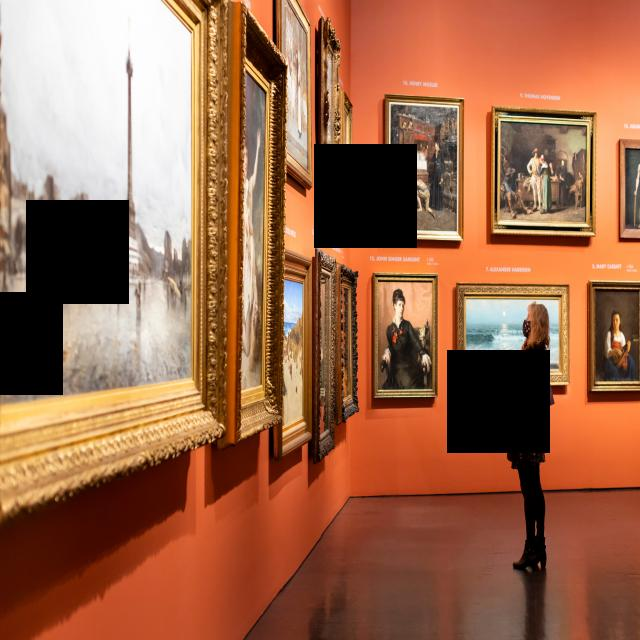Tablo: (388, 100, 460, 234), (239, 70, 267, 392), (499, 120, 587, 222), (465, 298, 560, 371), (377, 280, 433, 390), (594, 288, 640, 382), (282, 278, 303, 429)
